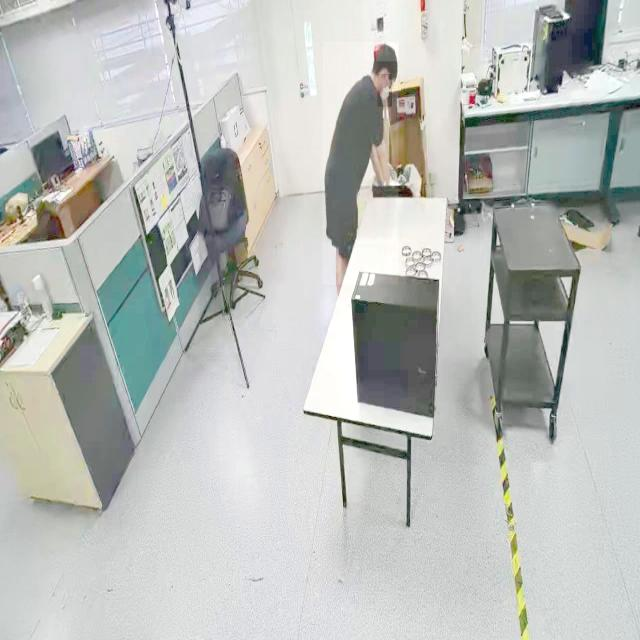face_mask: (378, 74, 392, 106)
head_nohelmet: (376, 44, 398, 62)
person: (322, 42, 398, 285)
